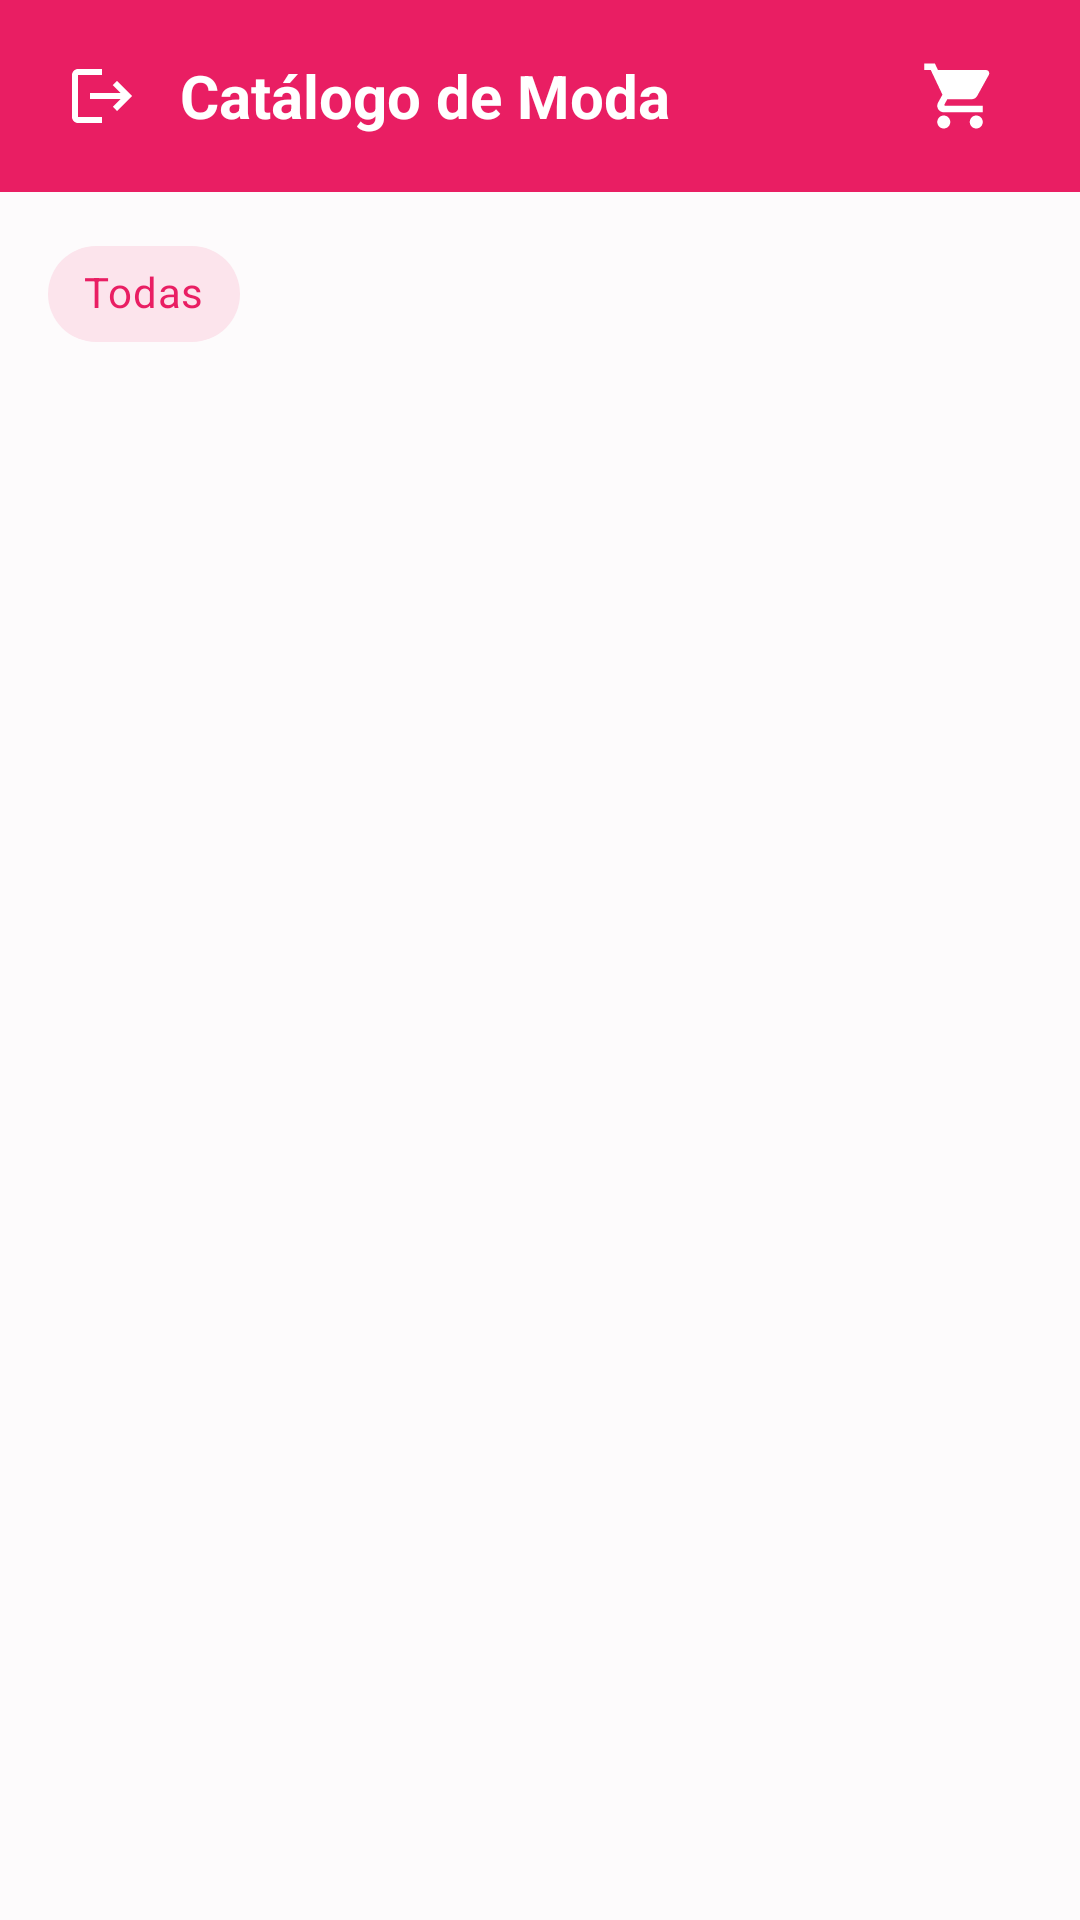

Where to tap for icons on this 1080x1920 app screen, as (x=x, y=y):
carrito: (x=957, y=96)
